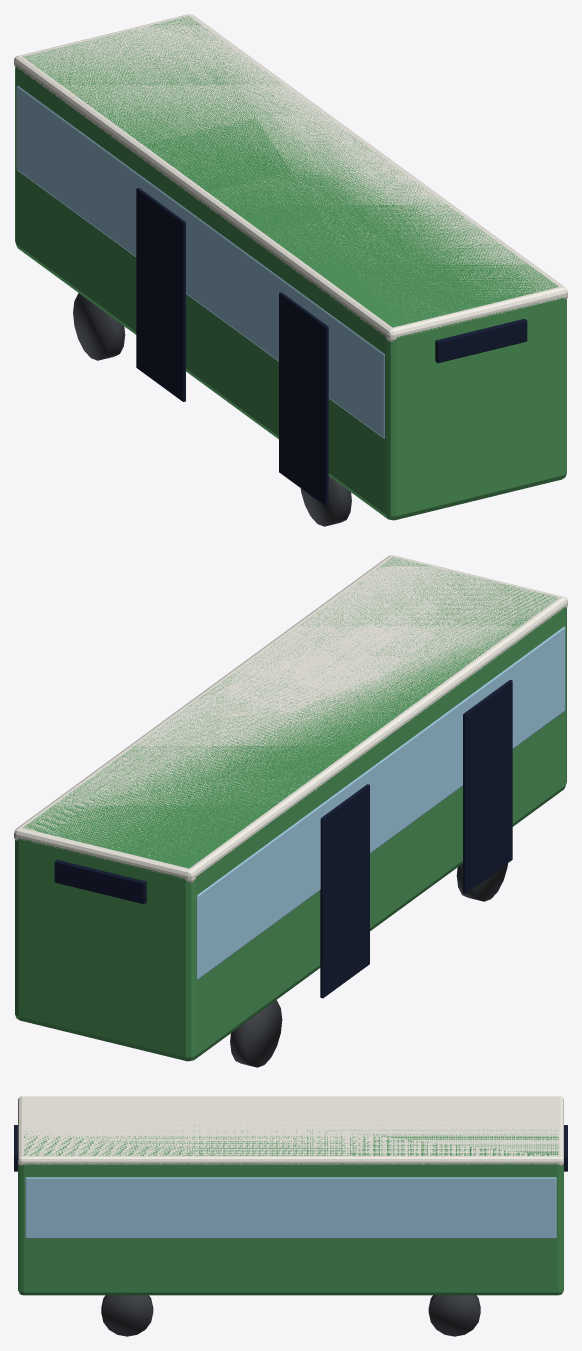
File: VillageBus_blockout.glb
3 views of the same model, one above another, from view 1: azimuth 30°, elevation 25°; view 2: azimuth 150°, elevation 25°; view 3: azimuth 270°, elevation 25° (orthographic). The views are drawn at different scales.
Parts seen in each view (by area): view 1: VEH04_VillageBus_Body_L0, VEH04_VillageBus_Roof_L0, VEH04_VillageBus_GlassBand_L0, VEH04_VillageBus_DoorFront_L0, VEH04_VillageBus_DoorMiddle_L0, VEH04_VillageBus_Wheel1S0_L0, VEH04_VillageBus_LEDFront_L0, VEH04_VillageBus_Wheel0S0_L0; view 2: VEH04_VillageBus_Body_L0, VEH04_VillageBus_Roof_L0, VEH04_VillageBus_GlassBand_L0, VEH04_VillageBus_DoorMiddle_L0, VEH04_VillageBus_DoorFront_L0, VEH04_VillageBus_Wheel1S0_L0, VEH04_VillageBus_LEDRear_L0, VEH04_VillageBus_Wheel0S0_L0; view 3: VEH04_VillageBus_Body_L0, VEH04_VillageBus_Roof_L0, VEH04_VillageBus_GlassBand_L0, VEH04_VillageBus_Wheel0S2_L0, VEH04_VillageBus_Wheel1S2_L0.
Boxes of the visible parts, x1,y1,x2,y2 form: VEH04_VillageBus_Body_L0: (15,16,566,520); VEH04_VillageBus_Roof_L0: (14,14,567,341); VEH04_VillageBus_GlassBand_L0: (16,85,384,438); VEH04_VillageBus_DoorFront_L0: (279,292,328,506); VEH04_VillageBus_DoorMiddle_L0: (136,188,185,401); VEH04_VillageBus_Wheel1S0_L0: (73,293,125,360); VEH04_VillageBus_LEDFront_L0: (435,319,527,363); VEH04_VillageBus_Wheel0S0_L0: (300,476,351,526); VEH04_VillageBus_Body_L0: (15,557,566,1061); VEH04_VillageBus_Roof_L0: (14,555,567,882); VEH04_VillageBus_GlassBand_L0: (197,626,565,979); VEH04_VillageBus_DoorMiddle_L0: (320,784,369,998); VEH04_VillageBus_DoorFront_L0: (463,680,512,893); VEH04_VillageBus_Wheel1S0_L0: (230,1000,282,1067); VEH04_VillageBus_LEDRear_L0: (54,860,146,904); VEH04_VillageBus_Wheel0S0_L0: (456,863,507,901); VEH04_VillageBus_Body_L0: (18,1125,563,1295); VEH04_VillageBus_Roof_L0: (18,1096,563,1165); VEH04_VillageBus_GlassBand_L0: (25,1177,556,1238); VEH04_VillageBus_Wheel0S2_L0: (101,1295,153,1336); VEH04_VillageBus_Wheel1S2_L0: (428,1295,480,1336).
Size of the model in its own units: 2.25 by 2.9 by 8.12.
